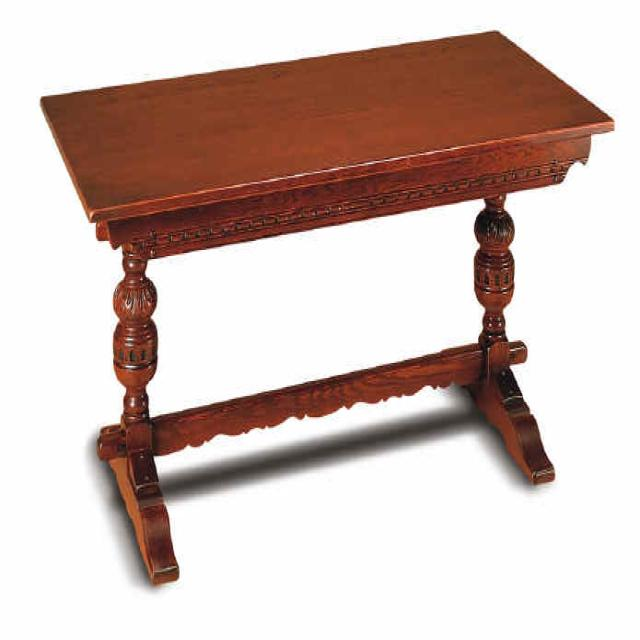table: (39, 28, 614, 586)
